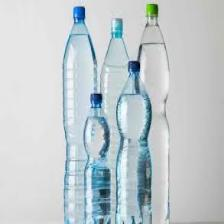plastic: (133, 4, 174, 224), (63, 4, 100, 224), (98, 17, 136, 224), (114, 59, 156, 224), (81, 91, 112, 224)
